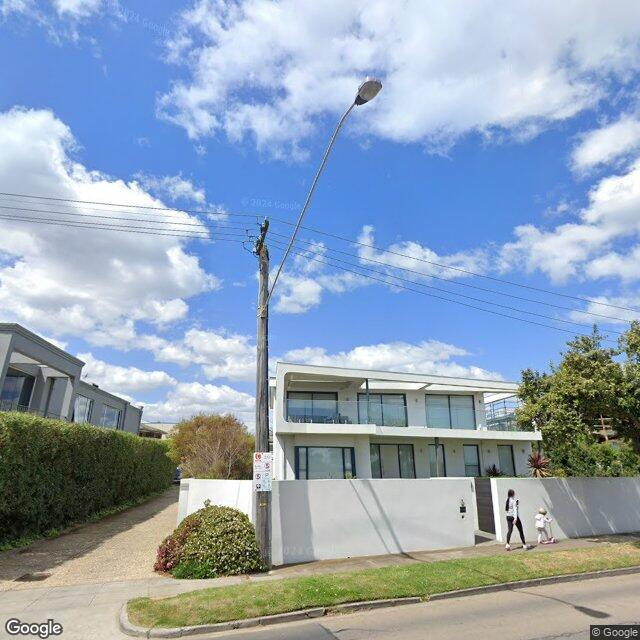crossarm: (255, 220, 269, 255)
streetlight: (261, 78, 384, 318)
timber-pole: (253, 244, 271, 572)
